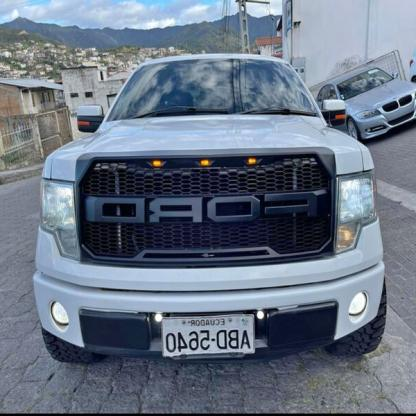Placa: (159, 310, 256, 360)
